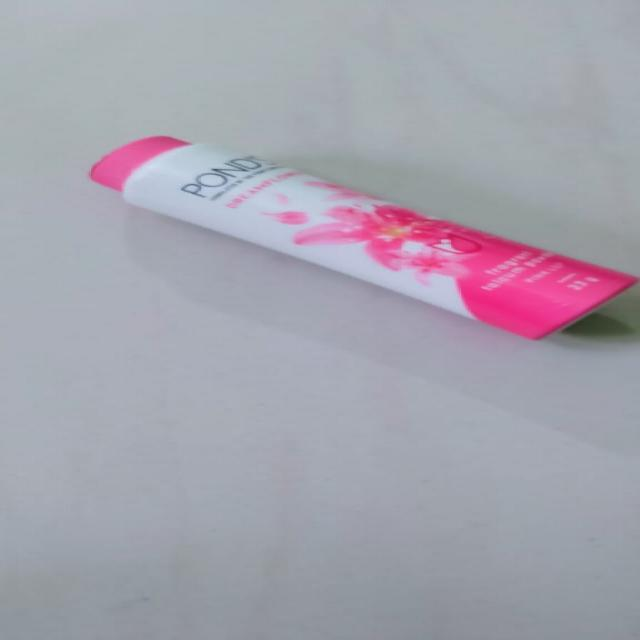powder: (89, 132, 628, 339)
